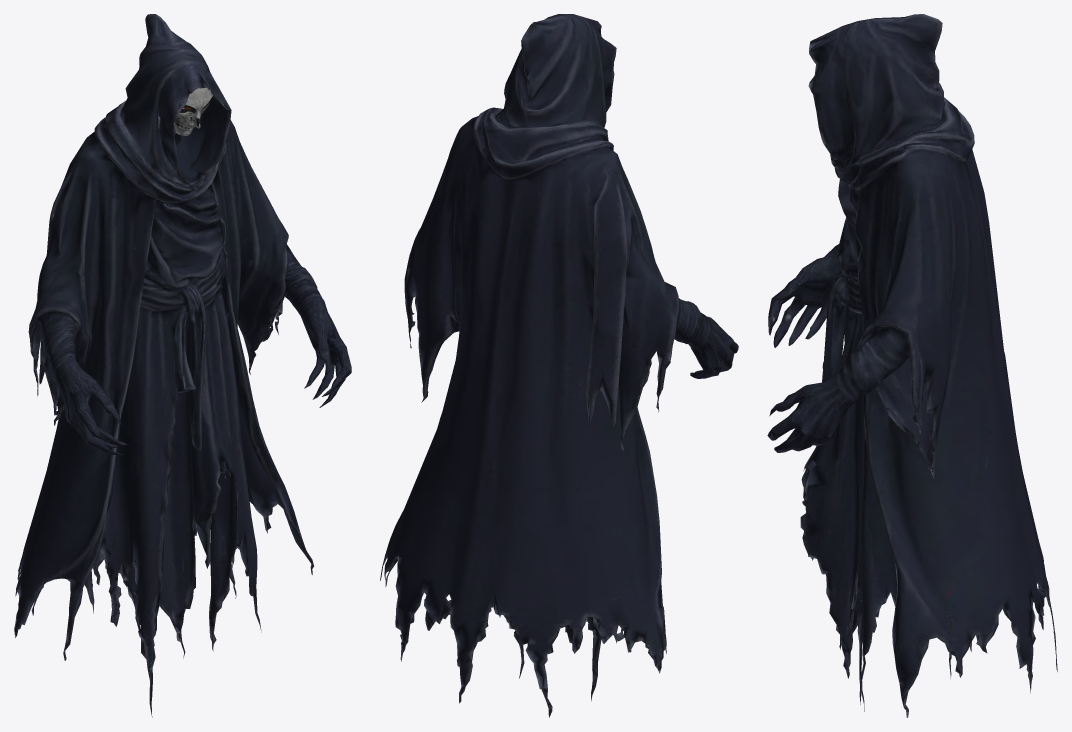
The model's file is shade.glb.
3 views of the same model, side by side, from view 1: azimuth 30°, elevation 25°; view 2: azimuth 150°, elevation 25°; view 3: azimuth 270°, elevation 25° (orthographic). The views are drawn at different scales.
Bounding box in the file's own units: 0.8582 × 1.9 × 0.6962.
1 material, 1 textured.
